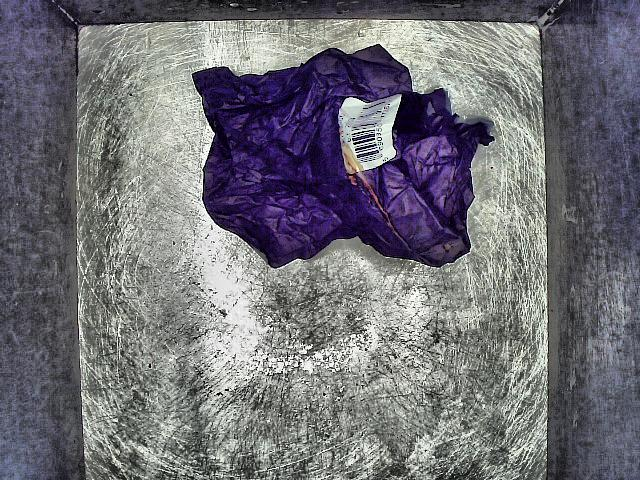Paper: (162, 43, 508, 303)
